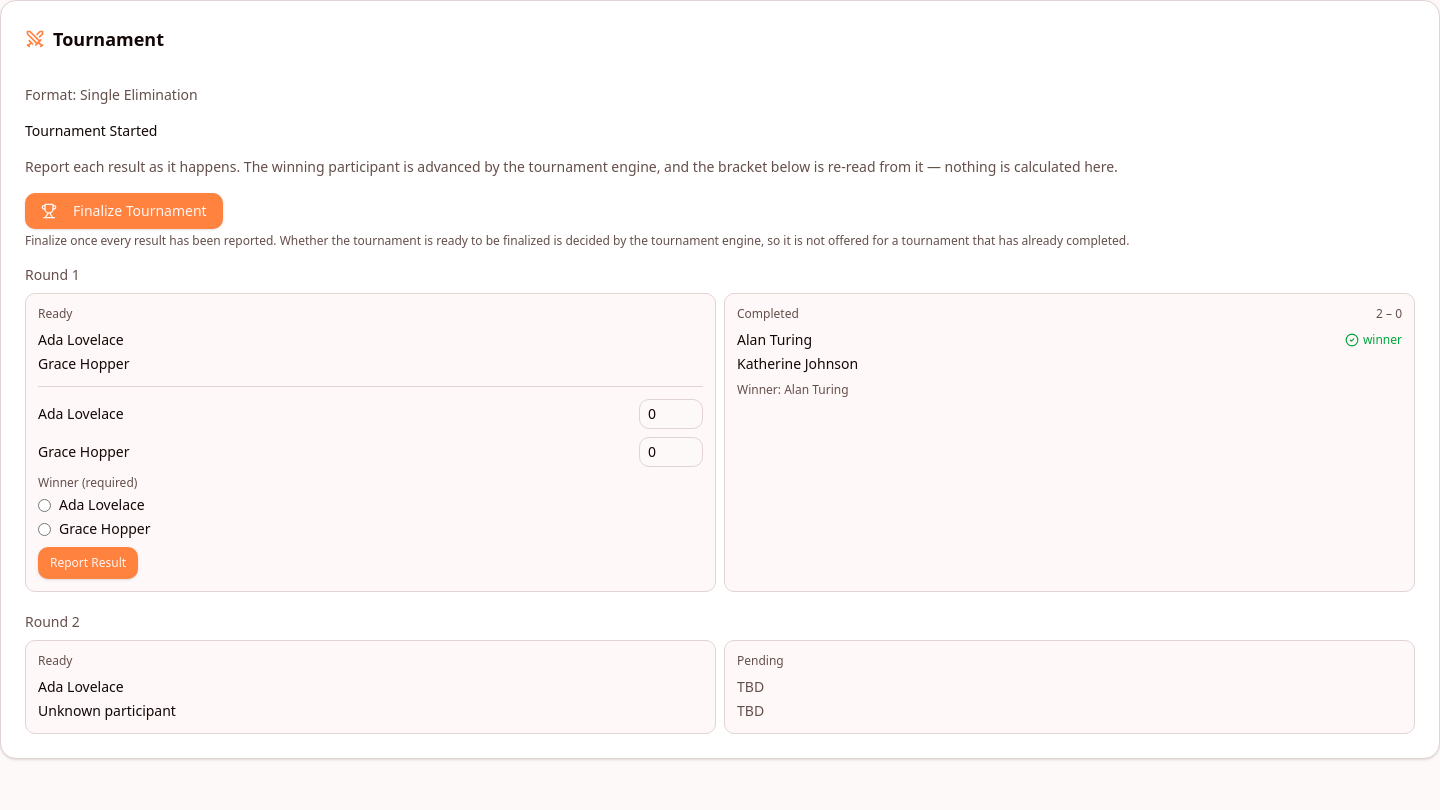
Test case: TournamentPanel — result reporting › submits the score and winner, then re-reads the bracket
Replace the text in the number field named "Score for Ada Lovelace" with "2" at (671, 414), box [639,399,703,429]
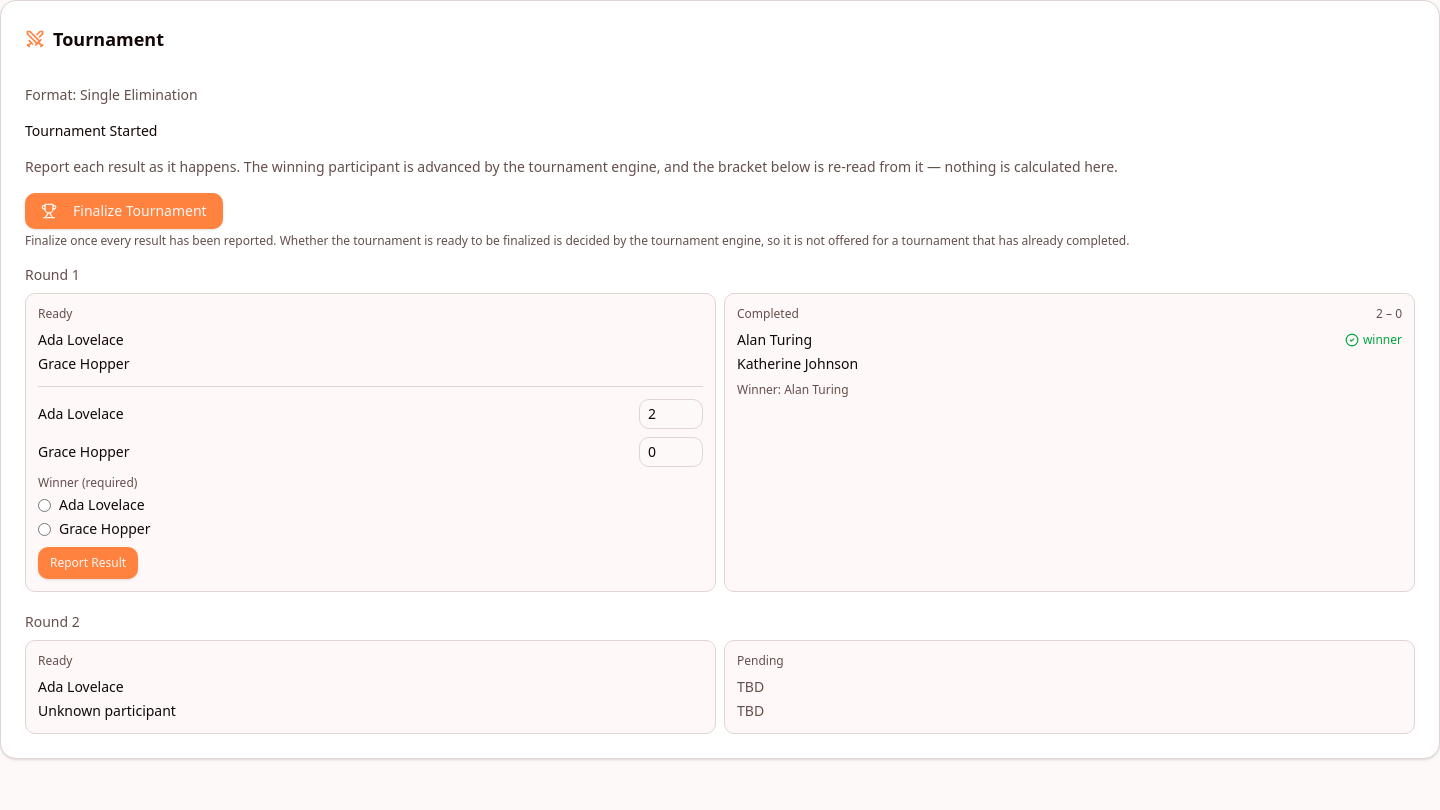
Replace the text in the number field named "Score for Grace Hopper" with "1" at (671, 452), box [639,437,703,467]
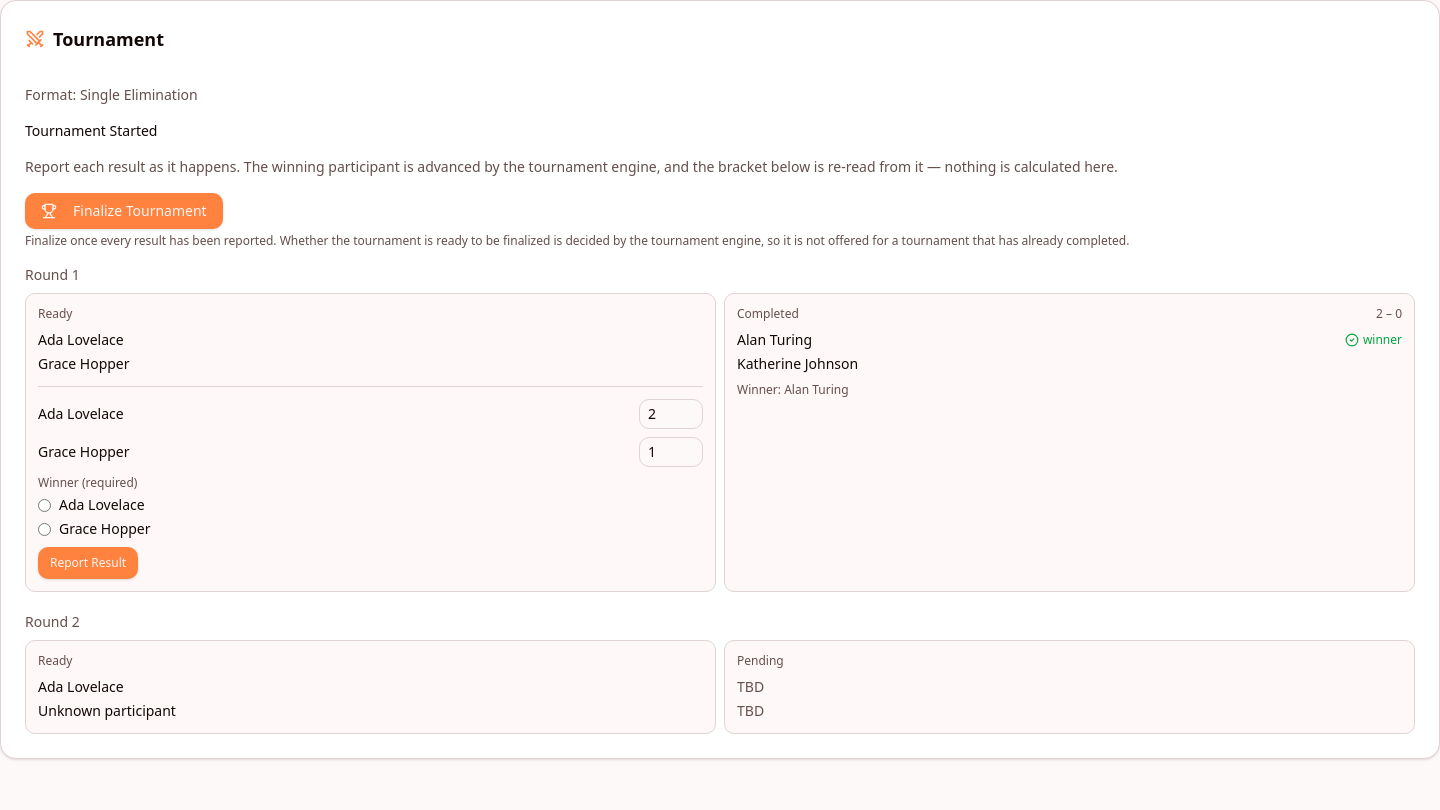
Click the radio button labelled "Ada Lovelace" at (44, 505), box [38,498,51,512]
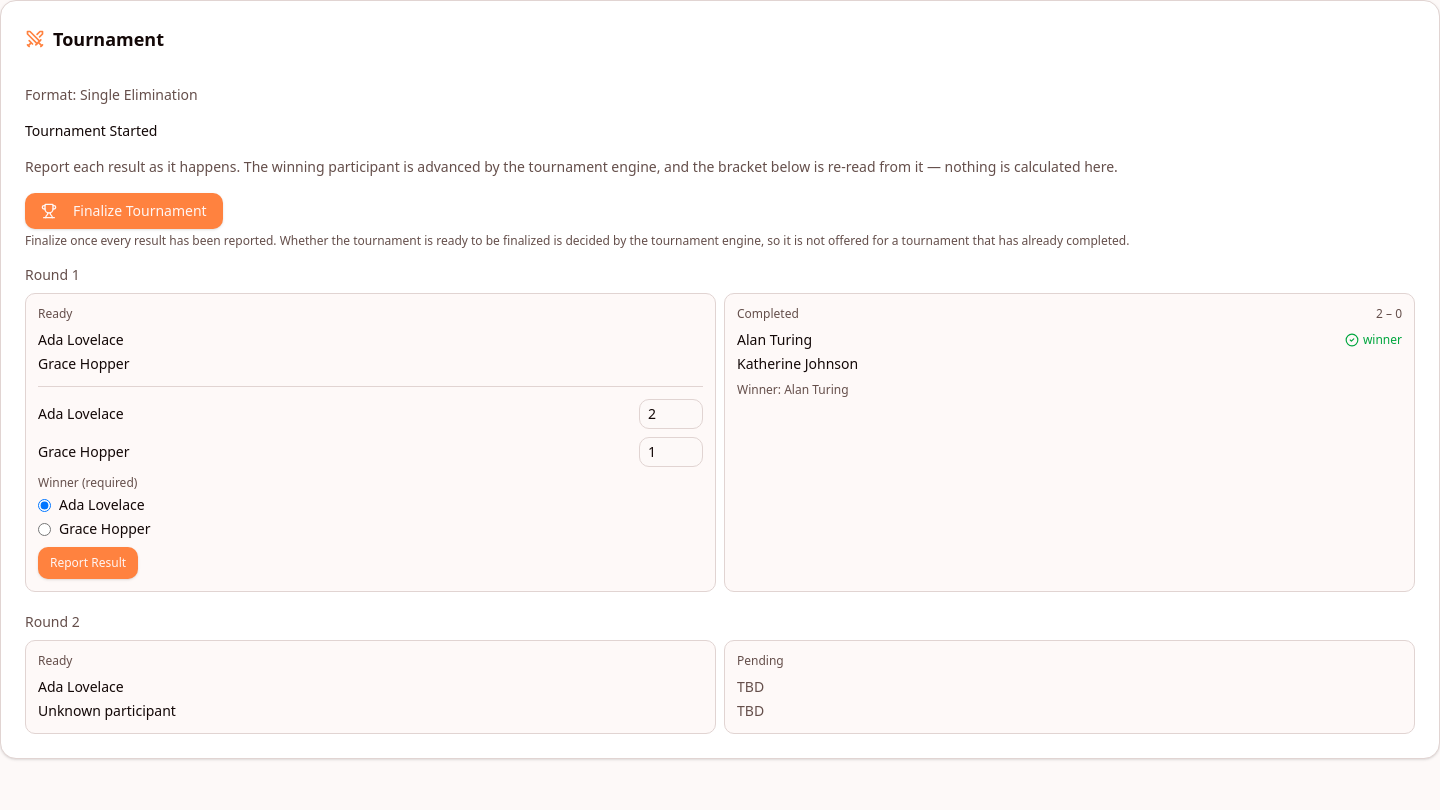
Click the button "Report Result" at (88, 563), box [38,547,138,579]
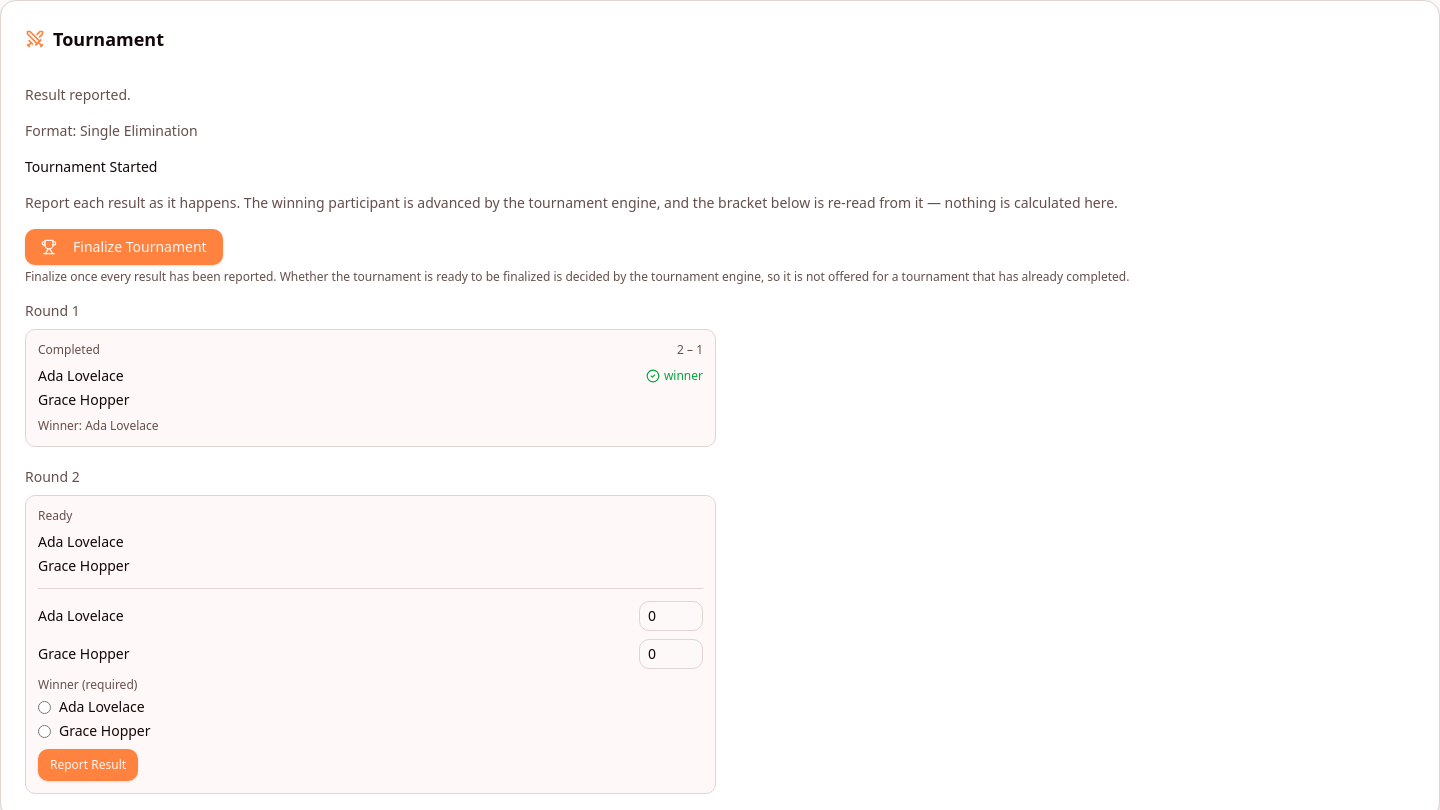
Expected: the number of buttons "Report Result" is 1, [38,749,138,781]
Now the text "Result reported." is shown, box [25,85,131,104]
Now the text "2 – 1" is shown, box [677,342,703,358]
